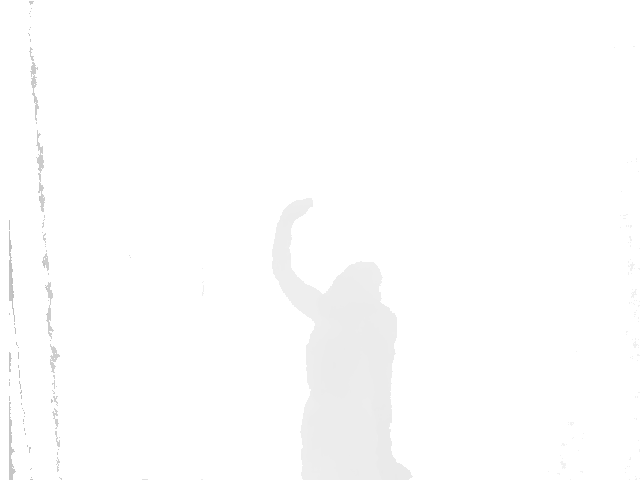hand: (277, 198, 316, 221)
head: (326, 259, 385, 306)
person: (271, 196, 417, 480)
